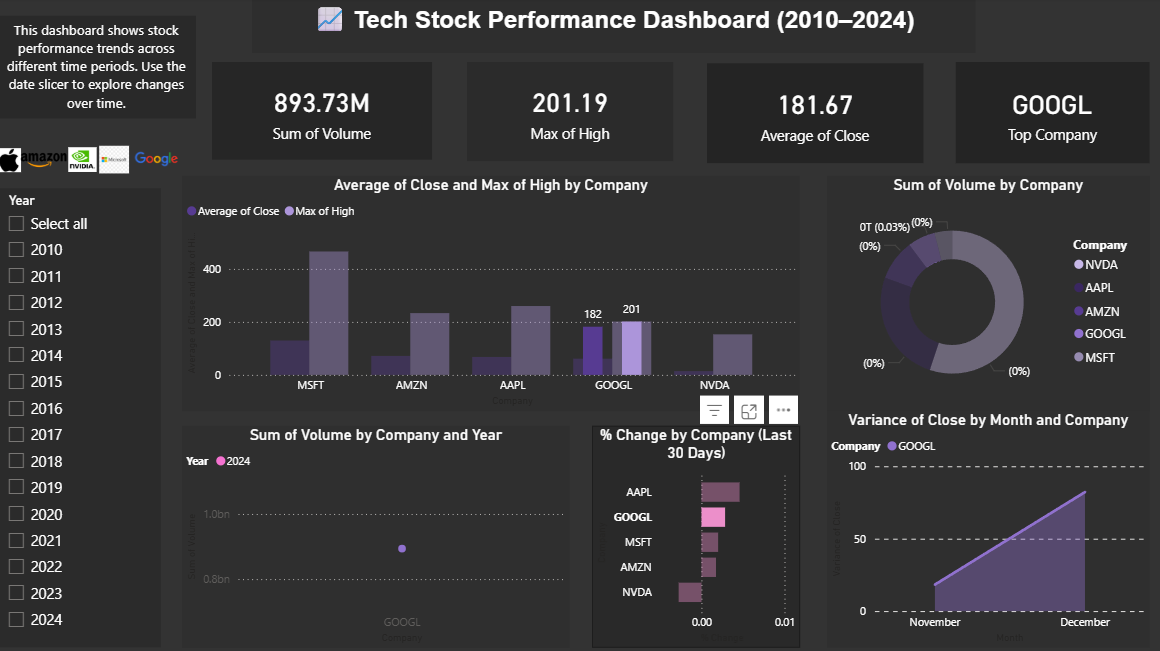

The page's visual inventory and layout, read from the dashboard file:
{"tool":"powerbi","page":{"name":"Page 1","canvas":[1280,720],"ordinal":0},"visuals":[{"type":"card","fields":{"Values":["Max(Stock data.High)"]},"box":[516,71.4,226.4,108.4],"z":0},{"type":"clusteredColumnChart","fields":{"Category":["Stock data.Company"],"Y":["Avg(Stock data.Close)","Max(Stock data.High)"]},"box":[202.9,195.7,678.6,258.6],"z":1000},{"type":"slicer","fields":{"Values":["Stock data.Year"]},"box":[0,209.9,179.8,503.6],"z":2000},{"type":"card","fields":{"Values":["Sum(Stock data.Volume)"]},"box":[236,71.4,241.5,107],"z":3000},{"type":"textbox","box":[279.9,0,794.5,61.7],"z":4000},{"type":"donutChart","fields":{"Category":["Stock data.Company"],"Y":["Sum(Stock data.Volume)"]},"box":[911.4,195.7,354.3,258.6],"z":5000},{"type":"card","fields":{"Values":["Avg(Stock data.Close)"]},"box":[779.4,72.7,237.4,109.8],"z":6000},{"type":"image","box":[0,161.9,26.1,34.3],"z":7000},{"type":"image","box":[26.1,164.7,50.8,28.8],"z":8000},{"type":"image","box":[78.2,163.3,31.6,30.2],"z":9000},{"type":"image","box":[109.8,163.3,37,30.2],"z":10000},{"type":"image","box":[146.8,167.4,56.3,20.6],"z":11000},{"type":"areaChart","fields":{"Category":["Stock data.Date.Variation.Date Hierarchy.Month"],"Series":["Stock data.Company"],"Y":["Variance(Stock data.Close)"]},"box":[911.4,454.3,354.3,260],"z":12000},{"type":"card","fields":{"Values":["Stock data.Top Company"]},"box":[1052.5,71.4,212.7,111.1],"z":13000},{"type":"clusteredBarChart","title":"% Change by Company (Last 30 Days)","fields":{"Category":["Stock data.Company"],"Y":["Stock data.% Change"]},"box":[652.9,470,228.6,244.3],"z":14000},{"type":"textbox","box":[0,20.6,218.2,112.5],"z":15000},{"type":"areaChart","fields":{"Category":["Stock data.Company"],"Y":["Sum(Stock data.Volume)"],"Series":["Stock data.Year"]},"box":[202.9,470,425.7,244.3],"z":16000}]}

Visuals, with their boxes in screenshot pixels (x1, y1, x2, y2), scaled from the page's 1280x720 canvas onto the 1160x651 screenshot:
card - Max(Stock data.High): 468/65/673/163
clusteredColumnChart - Stock data.Company x Avg(Stock data.Close): 184/177/799/411
slicer - Stock data.Year: 0/190/163/645
card - Sum(Stock data.Volume): 214/65/433/161
textbox: 254/0/974/56
donutChart - Stock data.Company x Sum(Stock data.Volume): 826/177/1147/411
card - Avg(Stock data.Close): 706/66/921/165
image: 0/146/24/177
image: 24/149/70/175
image: 71/148/100/175
image: 100/148/133/175
image: 133/151/184/170
areaChart - Stock data.Date.Variation.Date Hierarchy.Month x Stock data.Company: 826/411/1147/646
card - Stock data.Top Company: 954/65/1147/165
"% Change by Company (Last 30 Days)" clusteredBarChart: 592/425/799/646
textbox: 0/19/198/120
areaChart - Stock data.Company x Sum(Stock data.Volume): 184/425/570/646
